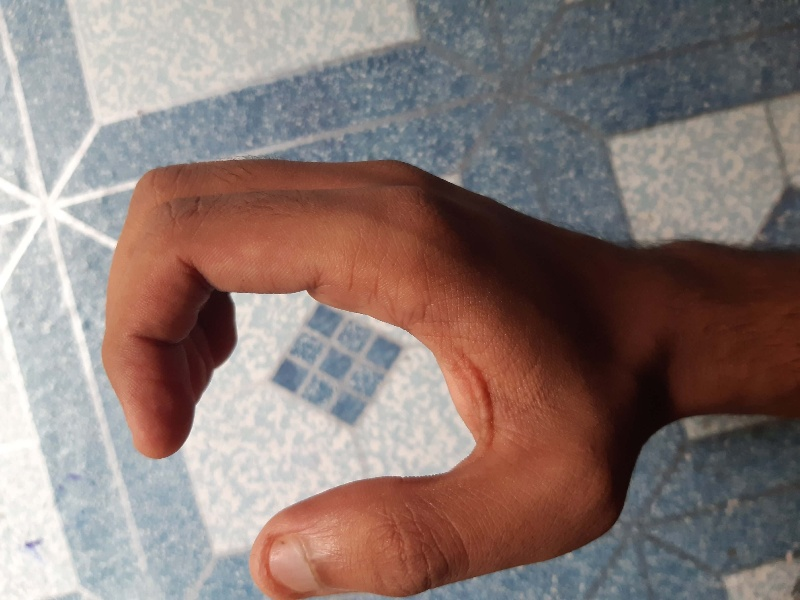one: (91, 120, 664, 598)
